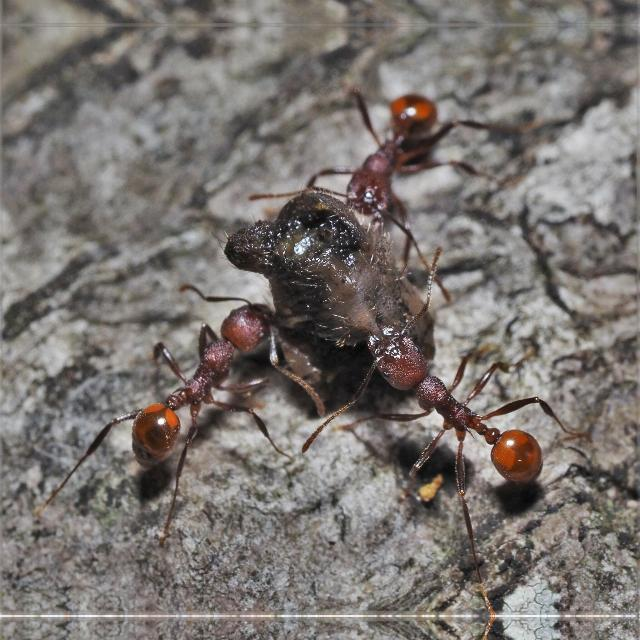Apheanogaster: (340, 302, 570, 508), (98, 284, 302, 486), (318, 76, 466, 232)
